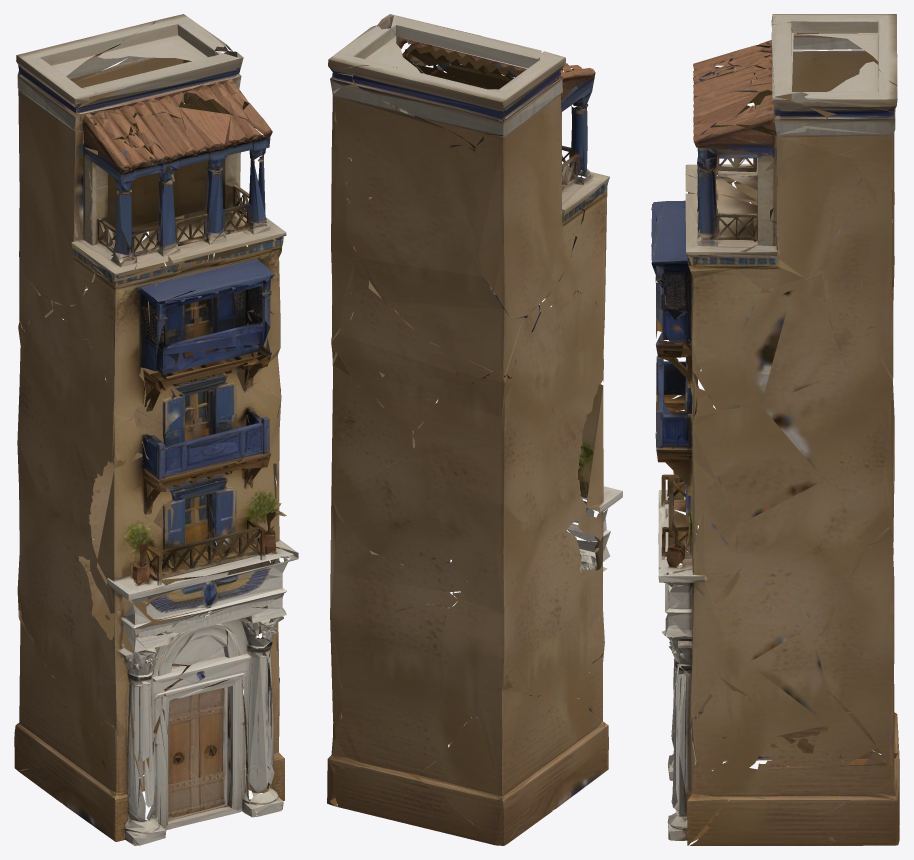
The model's file is ubld.glb.
3 views of the same model, side by side, from view 1: azimuth 30°, elevation 25°; view 2: azimuth 150°, elevation 25°; view 3: azimuth 270°, elevation 25° (orthographic). The views are drawn at different scales.
Parts seen in each view (by area): view 1: Object_14, Object_7, Object_16, Object_15, Object_9, Object_12, Object_5, Object_4, Object_13, Object_6, Object_8, Object_10 (+2 smaller); view 2: Object_14, Object_8, Object_9, Object_10, Object_7, Object_15, Object_12, Object_16, Object_13, Object_6, Object_17; view 3: Object_11, Object_10, Object_12, Object_9, Object_7, Object_4, Object_16, Object_8, Object_15, Object_13, Object_6, Object_14 (+2 smaller).
Boxes of the visible parts, box(x1,y1,x2,y2) form: Object_14: box(17, 101, 272, 743); Object_7: box(18, 51, 248, 448); Object_16: box(16, 20, 270, 797); Object_15: box(14, 102, 271, 845); Object_9: box(60, 14, 274, 700); Object_12: box(52, 46, 287, 807); Object_5: box(152, 354, 293, 830); Object_4: box(145, 107, 286, 550); Object_13: box(82, 51, 271, 845); Object_6: box(97, 95, 271, 600); Object_8: box(18, 100, 286, 803); Object_10: box(78, 44, 297, 816); Object_14: box(399, 59, 607, 717); Object_8: box(331, 63, 585, 845); Object_9: box(328, 26, 588, 568); Object_10: box(327, 25, 597, 806); Object_7: box(376, 14, 609, 364); Object_15: box(418, 56, 608, 845); Object_12: box(330, 48, 607, 730); Object_16: box(342, 51, 603, 581); Object_13: box(391, 15, 610, 671); Object_6: box(407, 46, 622, 513); Object_17: box(400, 54, 565, 143); Object_11: box(659, 125, 890, 845); Object_10: box(658, 100, 899, 845); Object_12: box(656, 51, 895, 840); Object_9: box(652, 45, 897, 549); Object_7: box(663, 32, 894, 445); Object_4: box(657, 91, 759, 549); Object_16: box(658, 14, 897, 811); Object_8: box(652, 61, 899, 825); Object_15: box(651, 65, 899, 770); Object_13: box(655, 22, 800, 780); Object_6: box(656, 105, 773, 512); Object_14: box(655, 255, 894, 636).
Size of the model in its own units: 0.2825 by 1.12 by 0.3377.
Materials: 1 (1 with a texture image).
